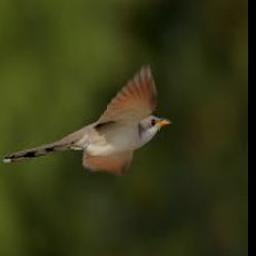Cuckoo: (2, 66, 171, 170)
